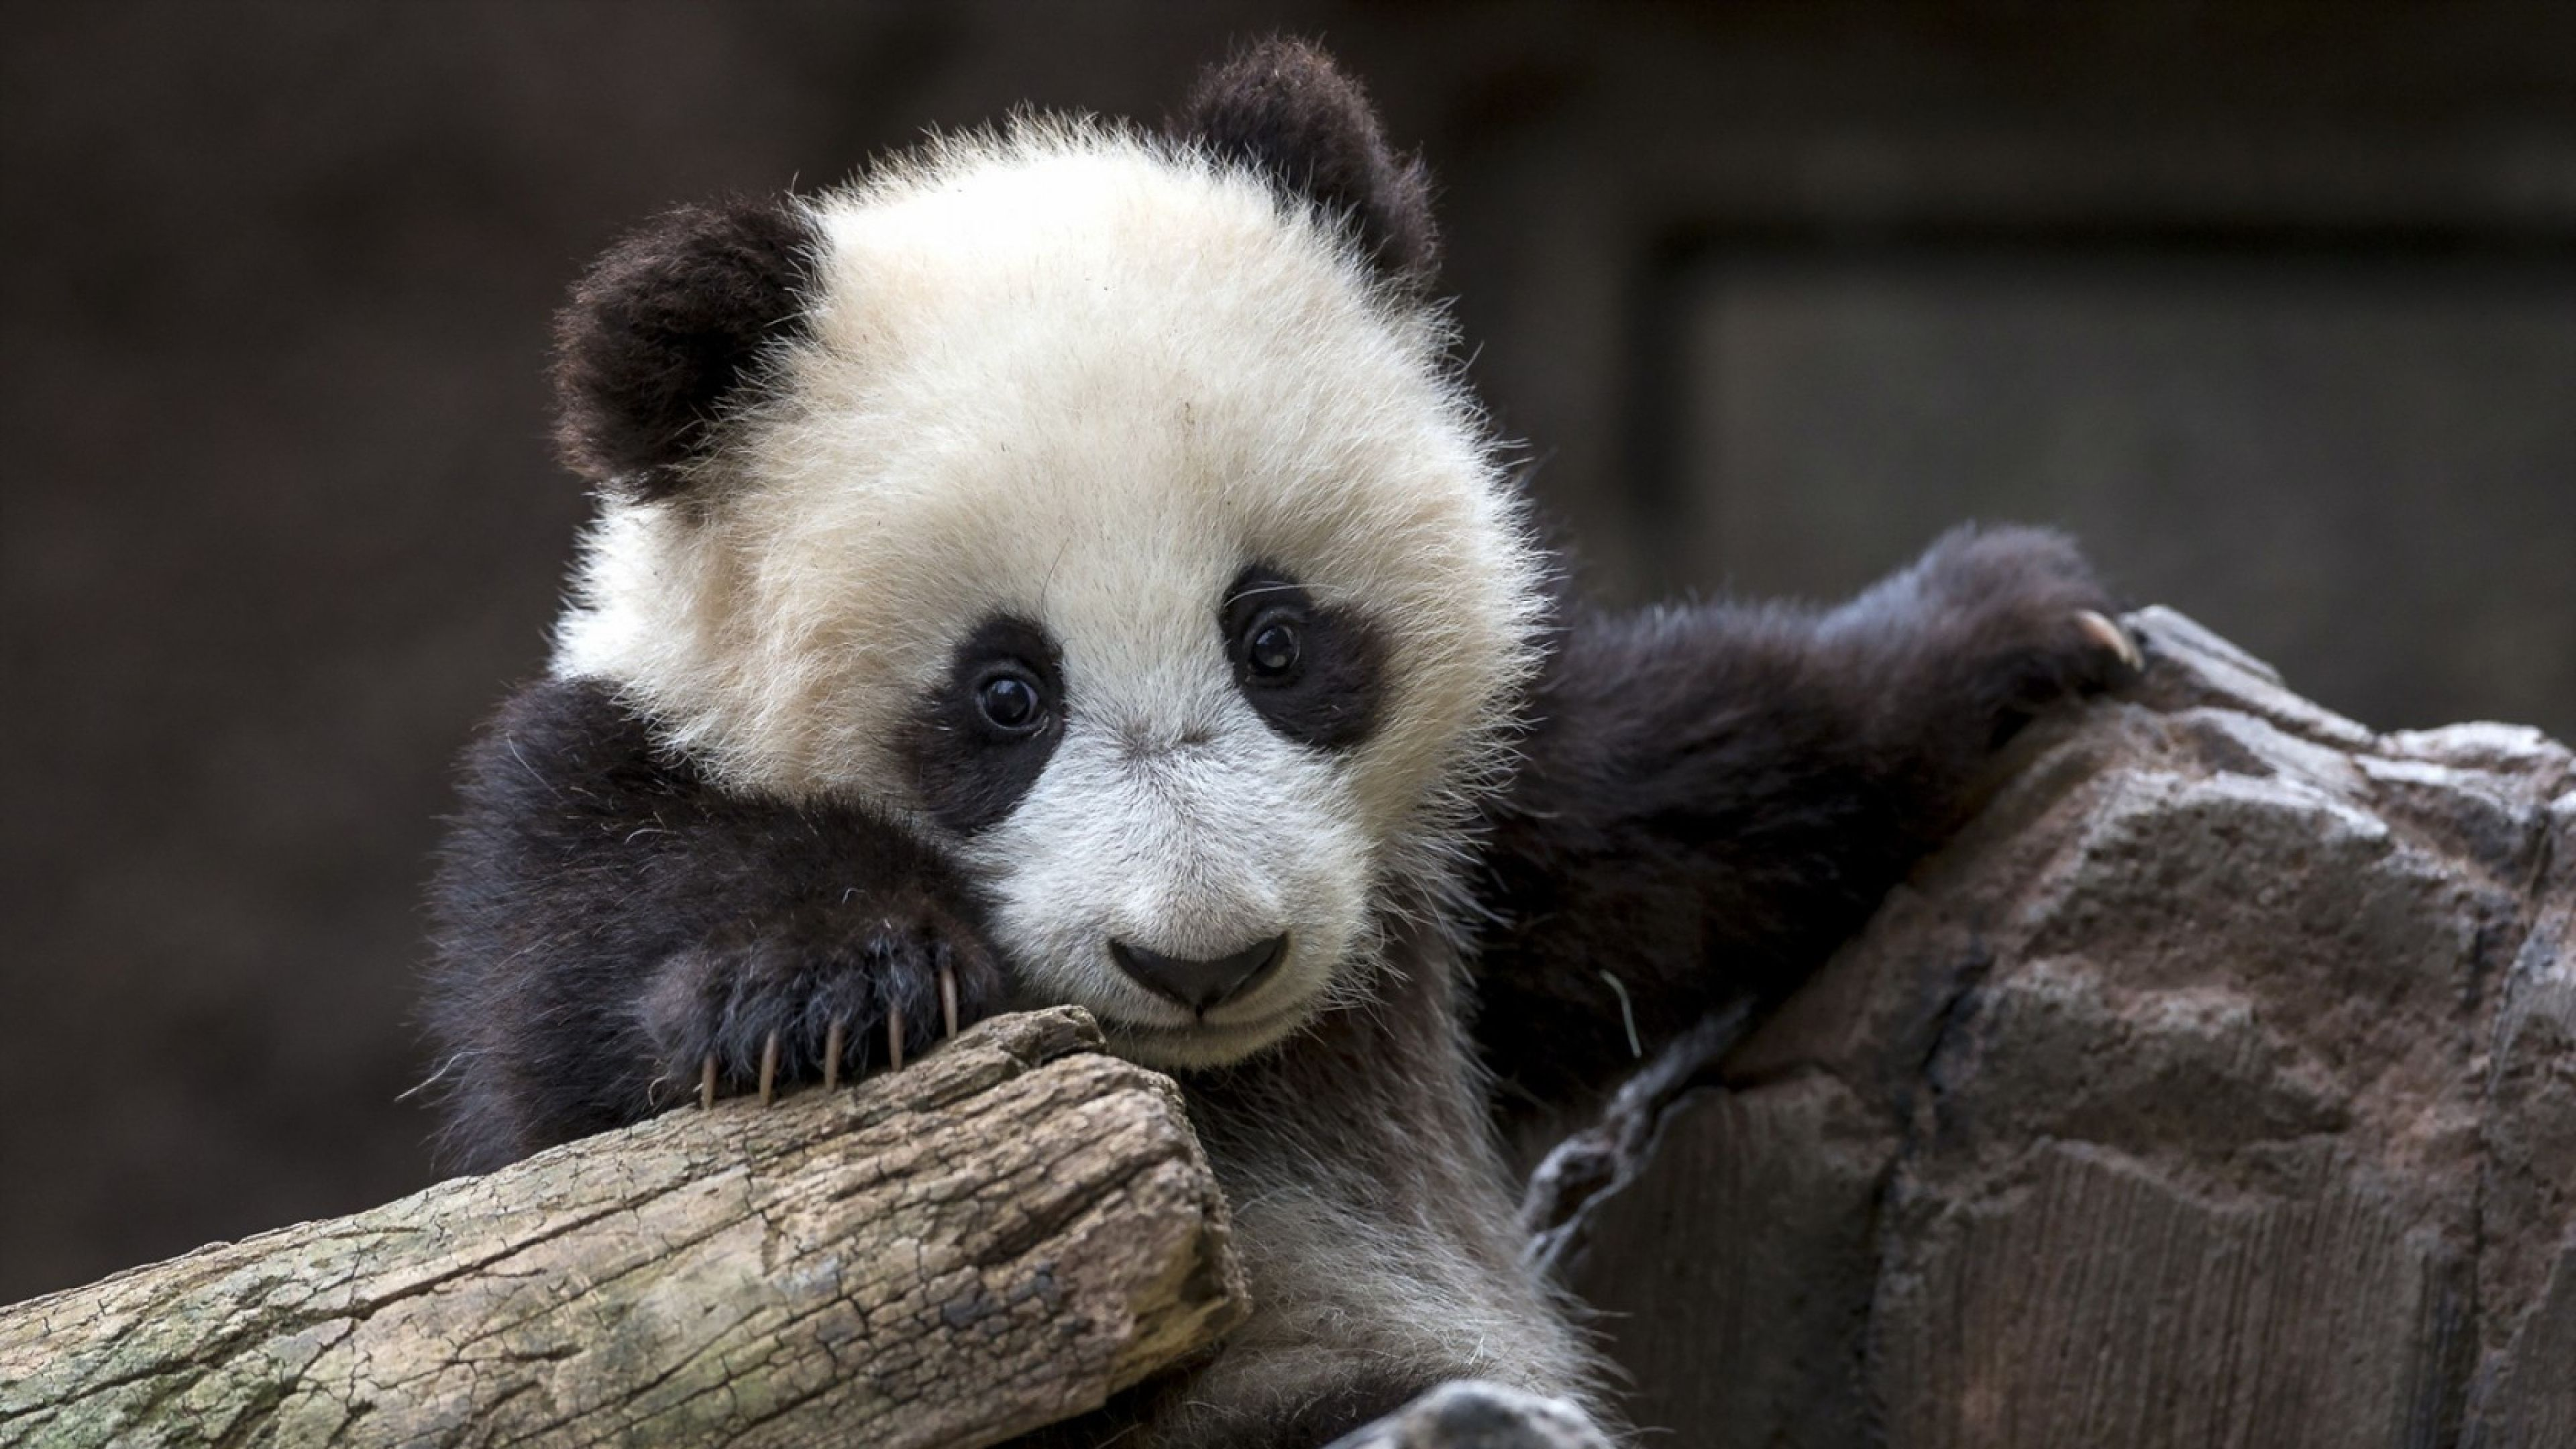panda: (368, 42, 1976, 1419)
